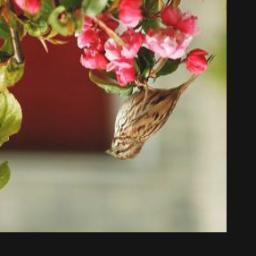Sparrow: (103, 50, 219, 164)
